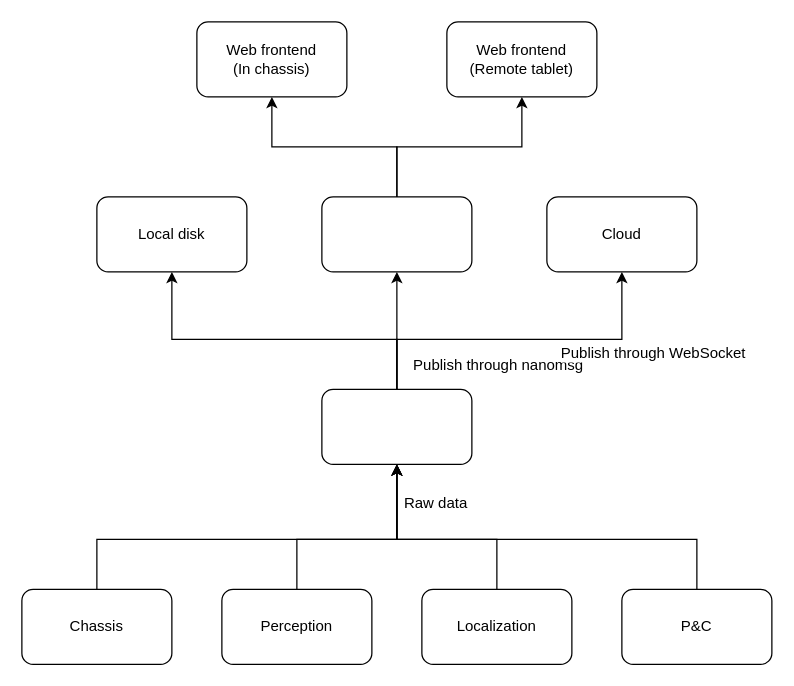
Image size: 794x686. Some labels were removed from this diagram. Each missing label, with the centre of its shape:
"Data collection (convert to Protobuf)" goes at [396,426].
"Web backend" goes at [396,234].
